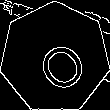O_NW: (23, 24, 87, 91)
